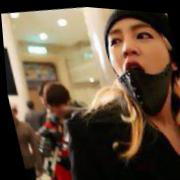WRONG: (101, 10, 180, 106)
